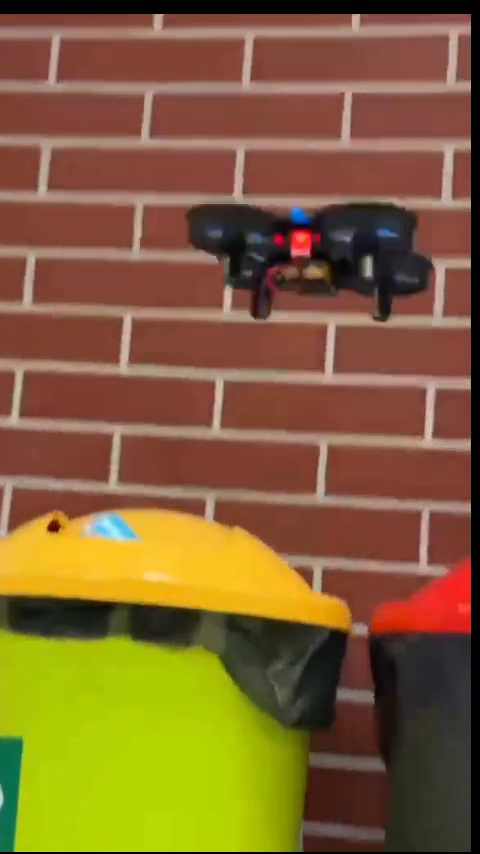drone: (186, 199, 444, 314)
